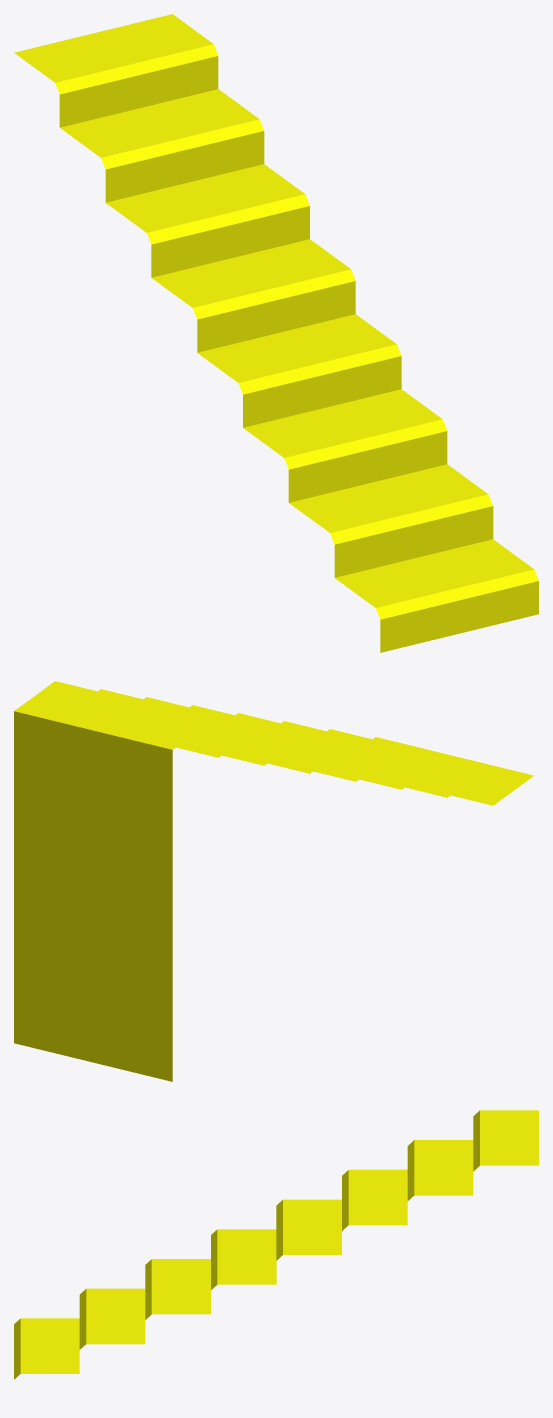
File: kaykit-stairs-long-modular-center.glb
3 renders of one model, top to bottom at view 1: azimuth 30°, elevation 25°; view 2: azimuth 150°, elevation 25°; view 3: azimuth 270°, elevation 25°, orthographic. The views are drawn at different scales.
Parts seen in each view (by area): view 1: stairs_long_modular_center; view 2: stairs_long_modular_center; view 3: stairs_long_modular_center.
Part boxes in pixels (x1,y1,x2,y2): stairs_long_modular_center: (14, 14, 538, 652); stairs_long_modular_center: (14, 681, 533, 1081); stairs_long_modular_center: (14, 1110, 538, 1379).
Bounding box in the file's own units: 2 × 4 × 8.
